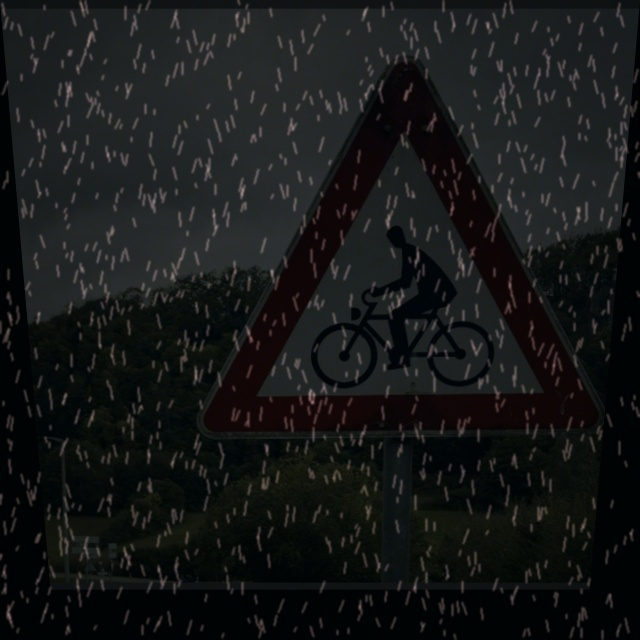Cycle_Crossing: (200, 50, 619, 440)
